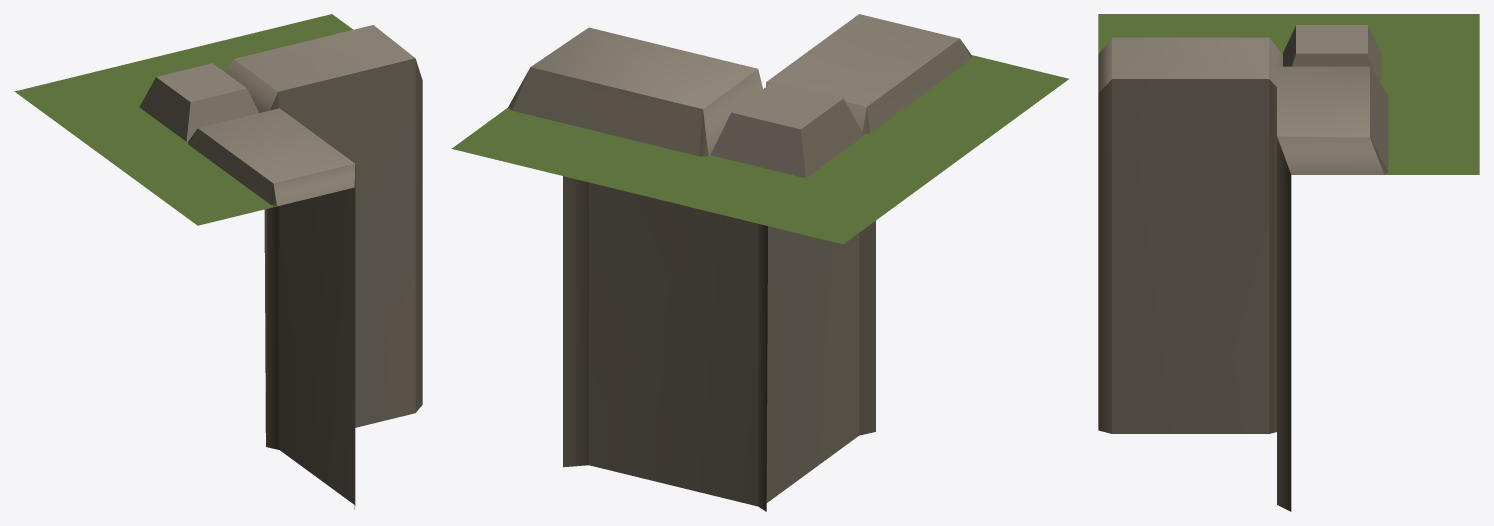
Rendered from SF_Bld_Elven_Blockwall_Corner_01.fbx.
3 views of the same model, side by side, from view 1: azimuth 30°, elevation 25°; view 2: azimuth 150°, elevation 25°; view 3: azimuth 270°, elevation 25° (orthographic). The views are drawn at different scales.
Parts seen in each view (by area): view 1: SF_Bld_Elven_Blockwall_Corner_01; view 2: SF_Bld_Elven_Blockwall_Corner_01; view 3: SF_Bld_Elven_Blockwall_Corner_01.
Boxes of the visible parts, <box> form: SF_Bld_Elven_Blockwall_Corner_01: <box>14,14,422,509</box>; SF_Bld_Elven_Blockwall_Corner_01: <box>451,14,1068,511</box>; SF_Bld_Elven_Blockwall_Corner_01: <box>1098,14,1479,511</box>.
Bounding box in the file's own units: 10 × 10.73 × 10.
